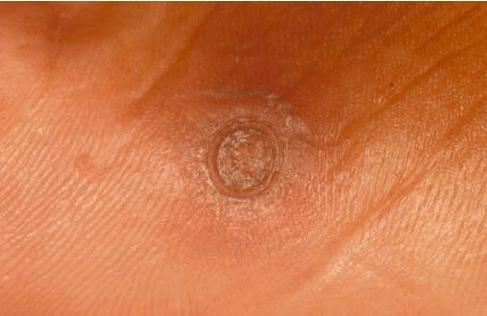annular lichen planus: (181, 96, 302, 219)
